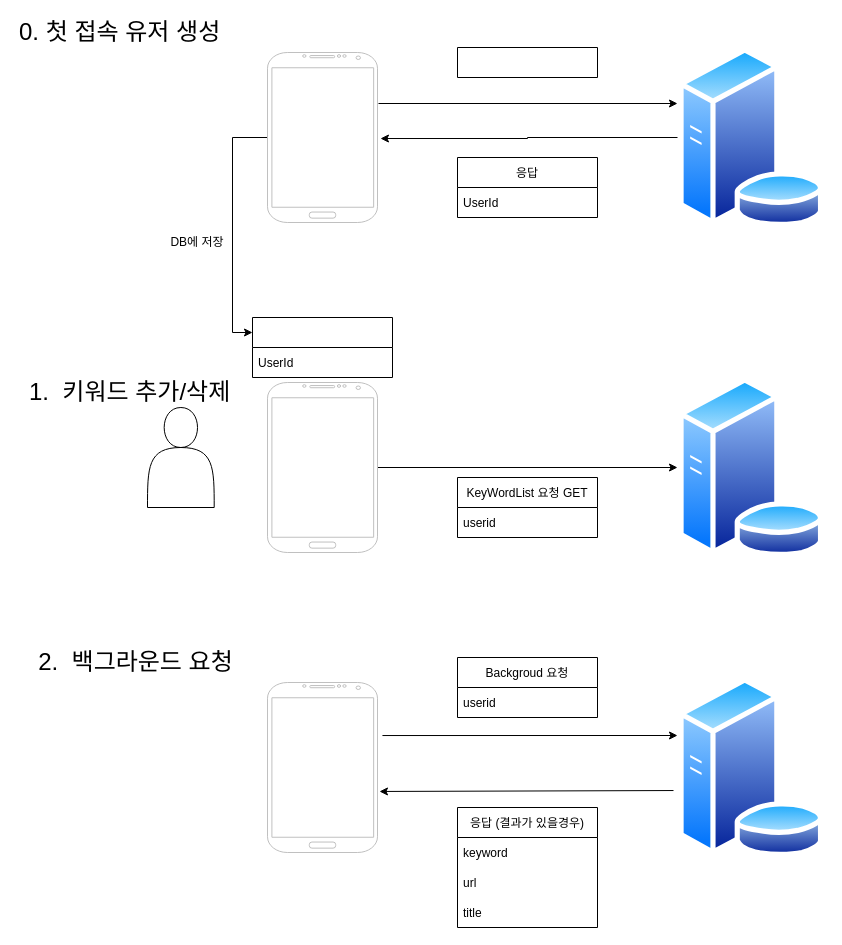
This 842x945 diagram has some shape labels left out. The shapes that lost their labels are listed below. From the top down, each one's box as (x1, y1, x2, y2) in pixels, then its label:
(456, 46, 598, 78): Userid Create 요청
(252, 316, 392, 378): SQLite
